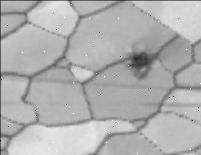good_void: (128, 50, 150, 80)
